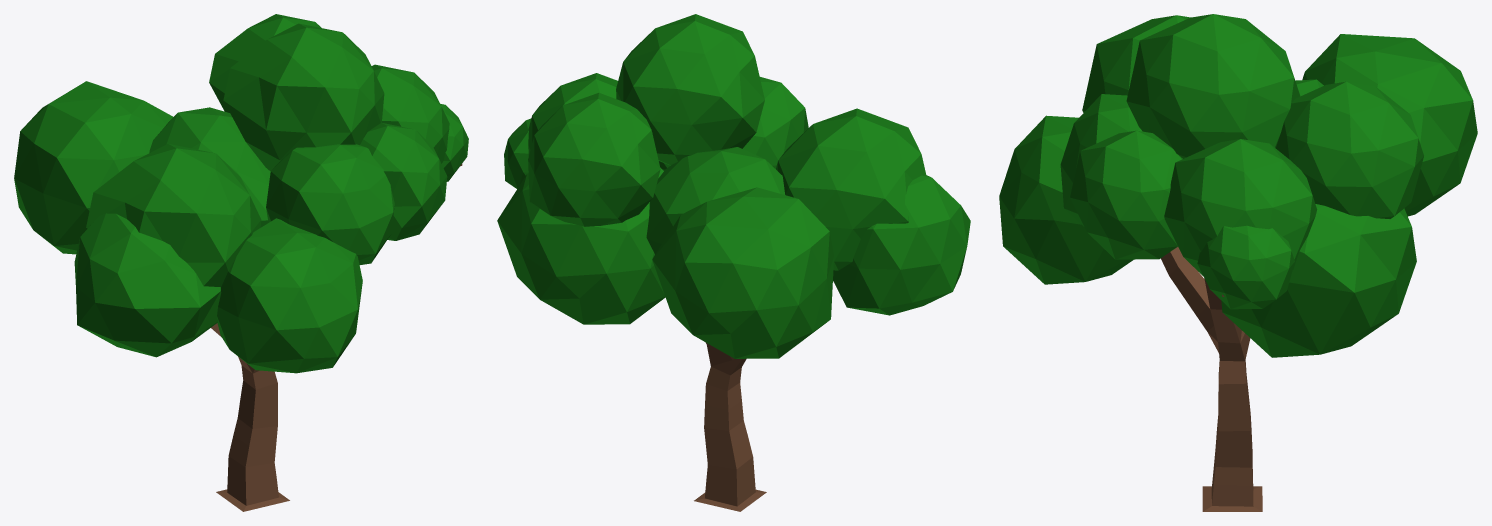
The model's file is tree.fbx.
The picture shows the model from 3 angles, left to right: view 1: azimuth 30°, elevation 25°; view 2: azimuth 150°, elevation 25°; view 3: azimuth 270°, elevation 25°; orthographic projection. The views are drawn at different scales.
Parts seen in each view (by area): view 1: Plane; view 2: Plane; view 3: Plane.
Part boxes in pixels (x1,y1,x2,y2): Plane: (14, 14, 468, 511); Plane: (497, 14, 970, 511); Plane: (999, 14, 1477, 511).
Size of the model in its own units: 900 by 958 by 816.
